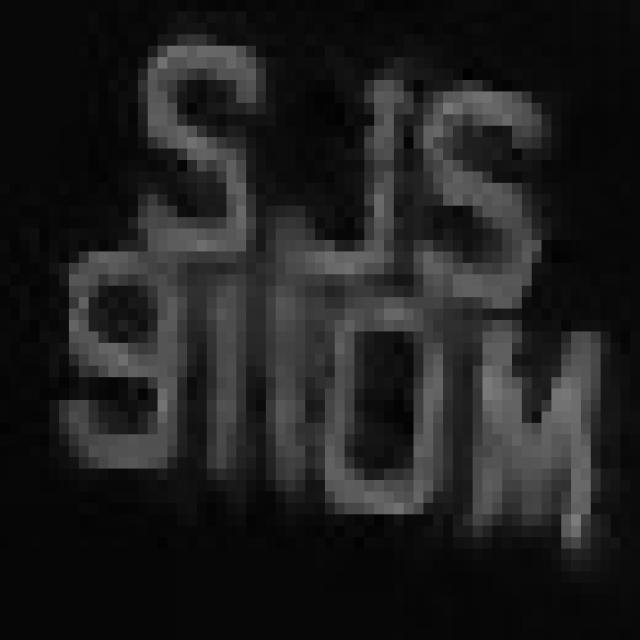0: (315, 286, 463, 537)
1: (197, 229, 256, 514), (256, 252, 315, 537)
9: (59, 217, 187, 514)
J: (256, 23, 404, 320)
M: (443, 308, 620, 572)
S: (108, 11, 266, 286), (424, 57, 542, 320)
